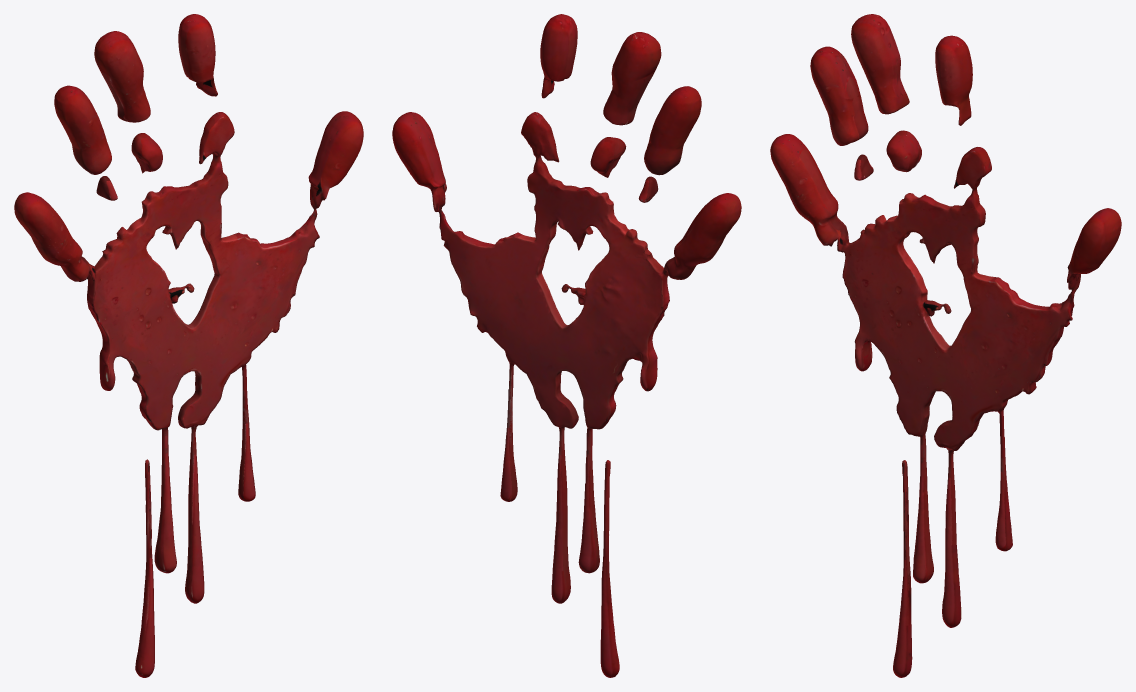
The model's file is MarcaMano.glb.
3 renders of one model, left to right at view 1: azimuth 30°, elevation 25°; view 2: azimuth 150°, elevation 25°; view 3: azimuth 330°, elevation 25°, orthographic.
Size of the model in its own units: 1.1 by 2 by 0.1191.
1 material, 1 textured.
